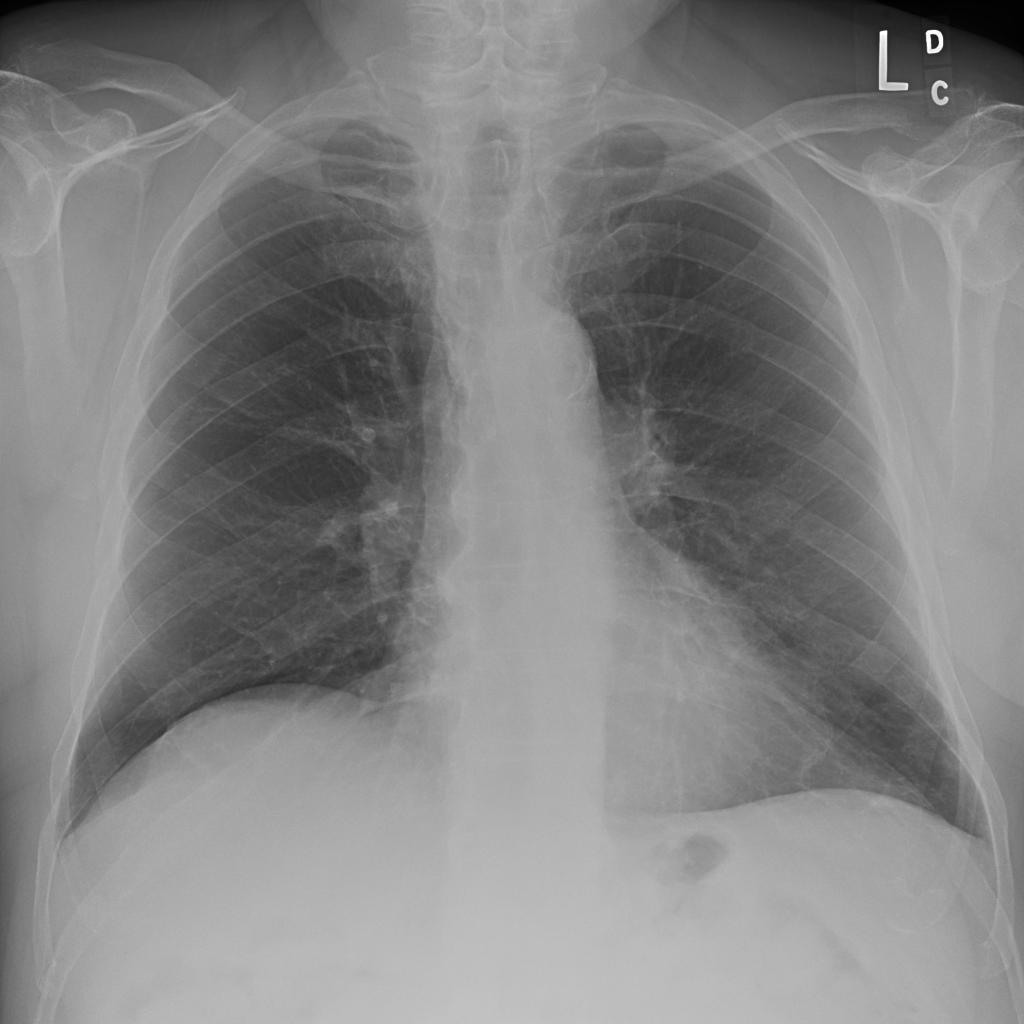Nodule: (438, 340, 467, 364)
